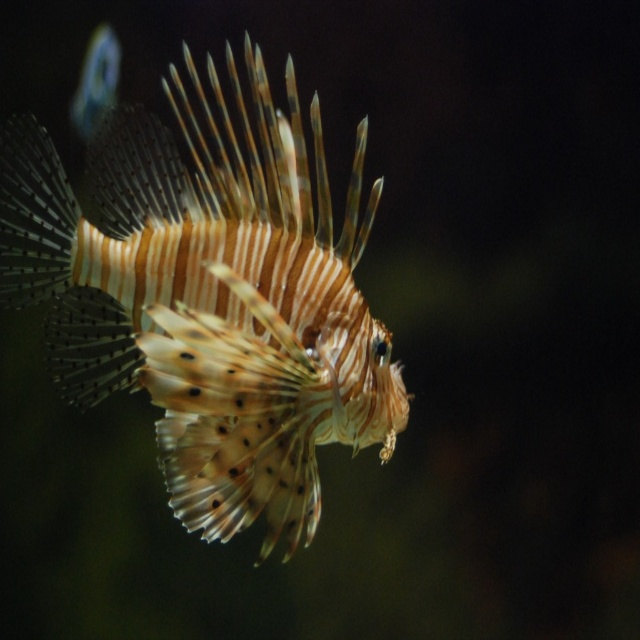Fish: (0, 28, 409, 567)
